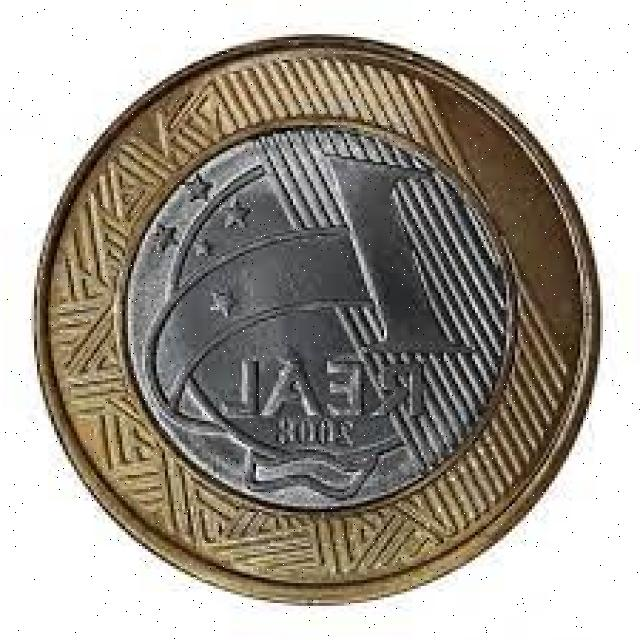1 real: (38, 35, 586, 592)
